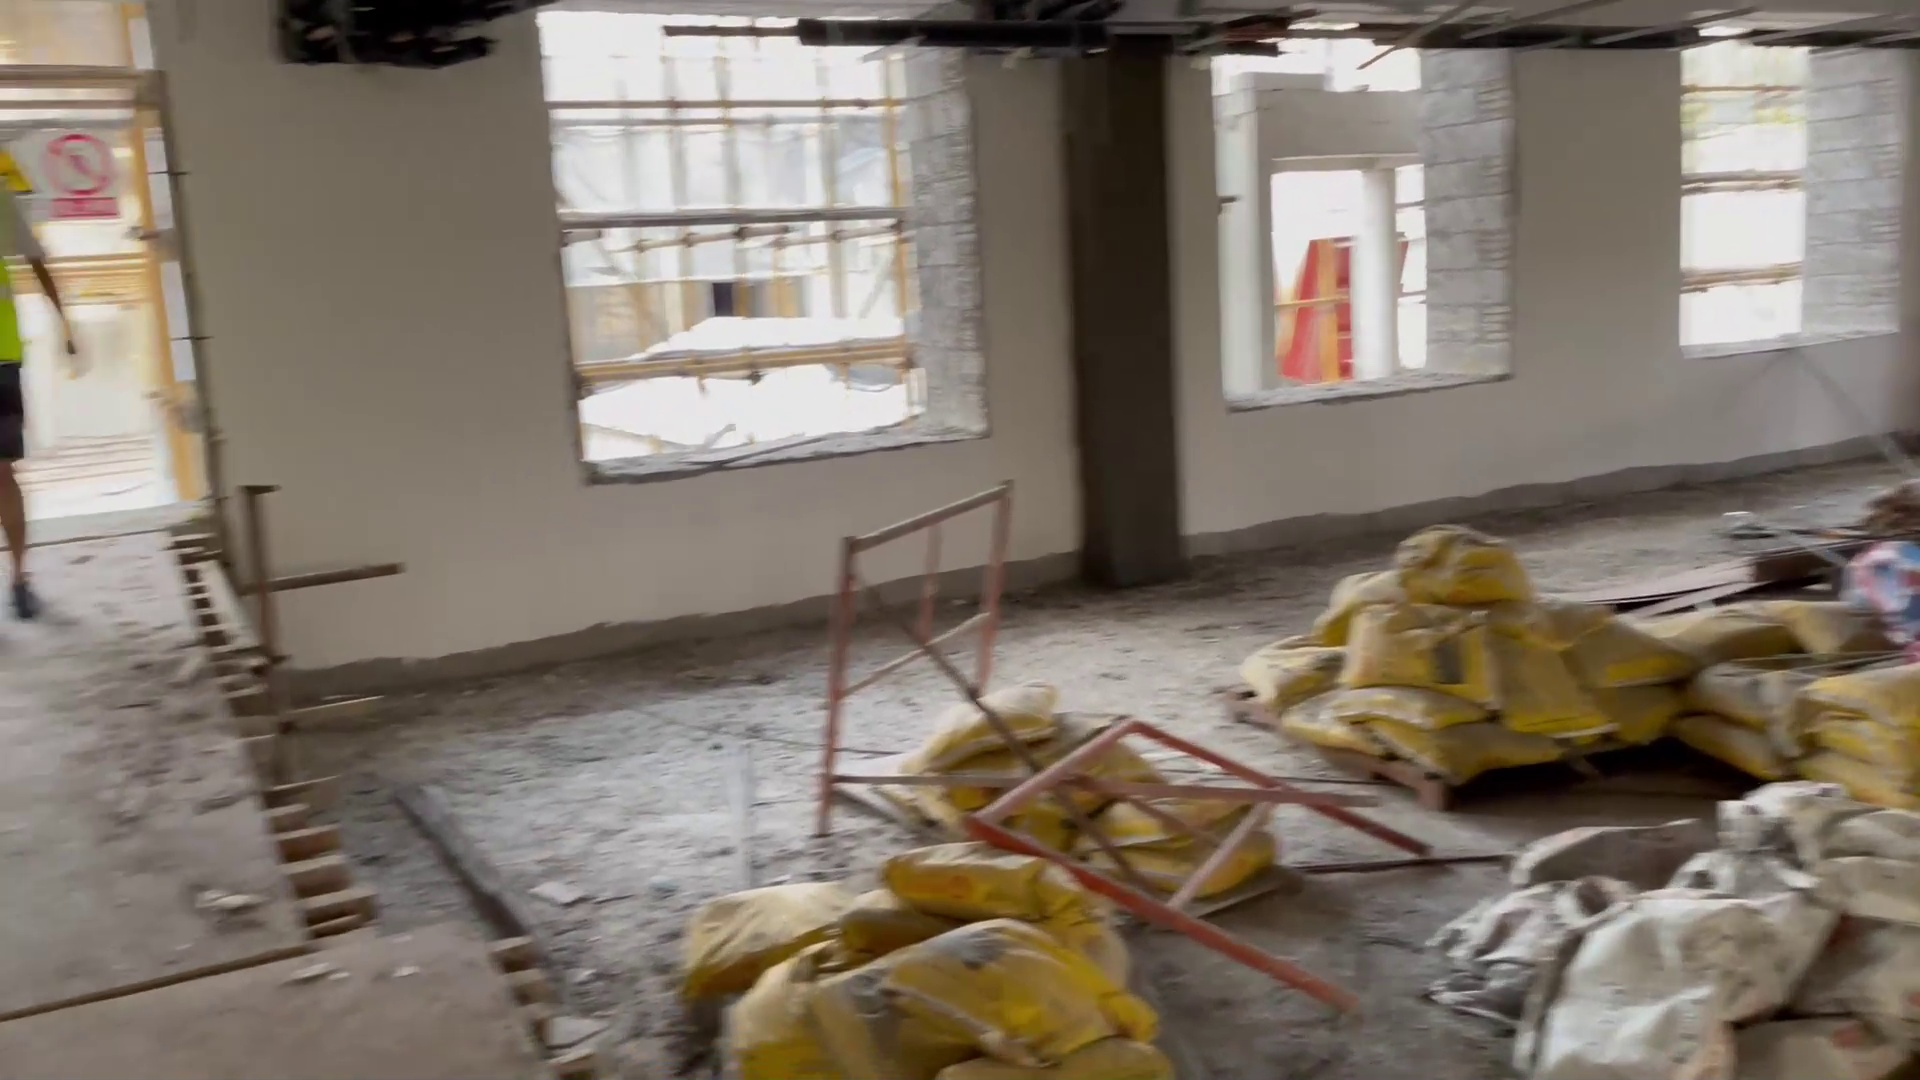person: (1, 125, 66, 621)
